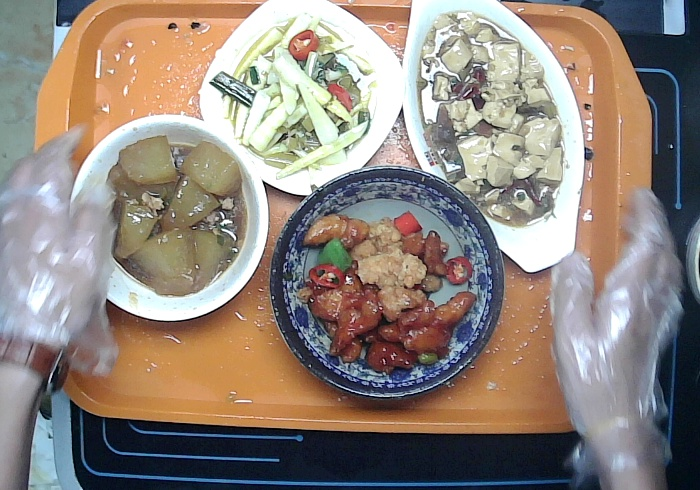ZNLD-Qing_Hua_Wan: (267, 163, 505, 400)
ZNLD-Si_Fang_Wan: (197, 1, 406, 199)
ZNLD-Tang_Wan: (68, 113, 270, 322)
ZNLD-Yu_Pan: (401, 1, 587, 274)
